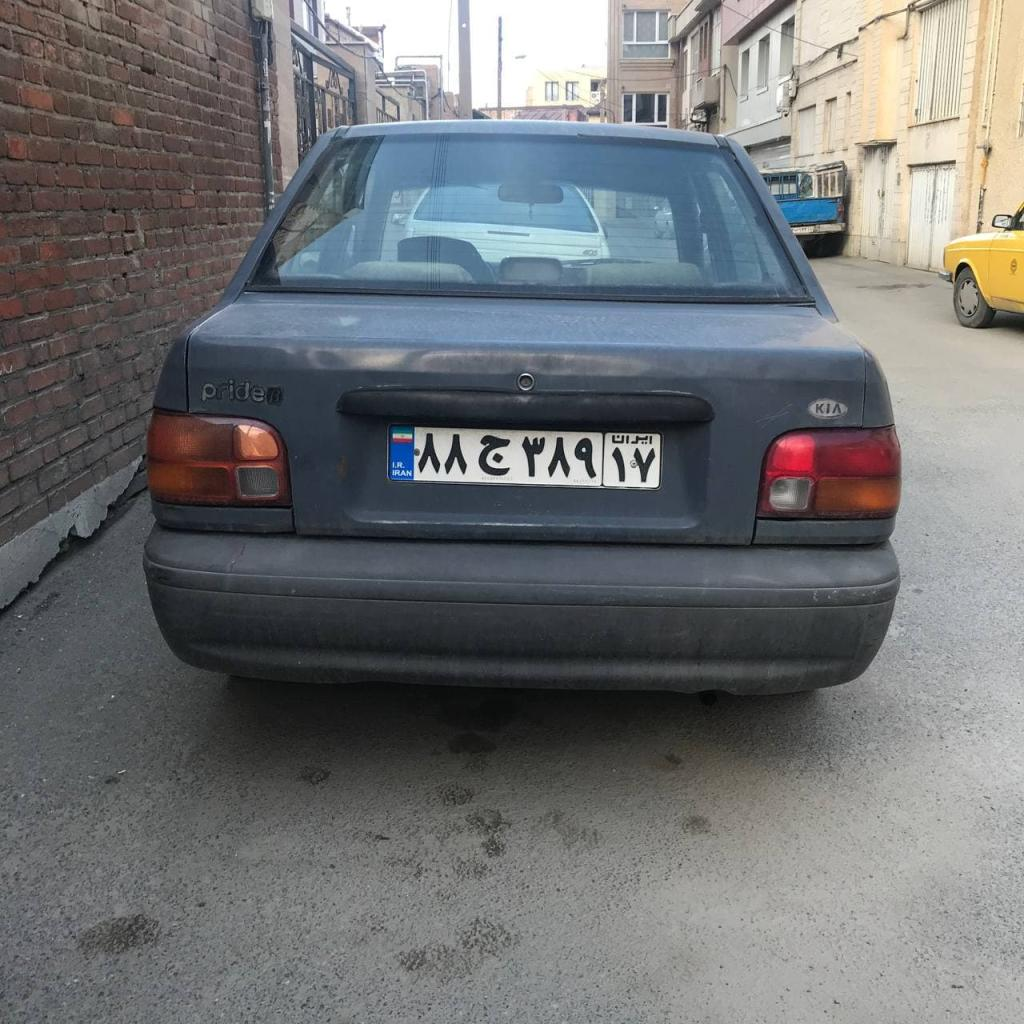Plates: (387, 426, 660, 485)
